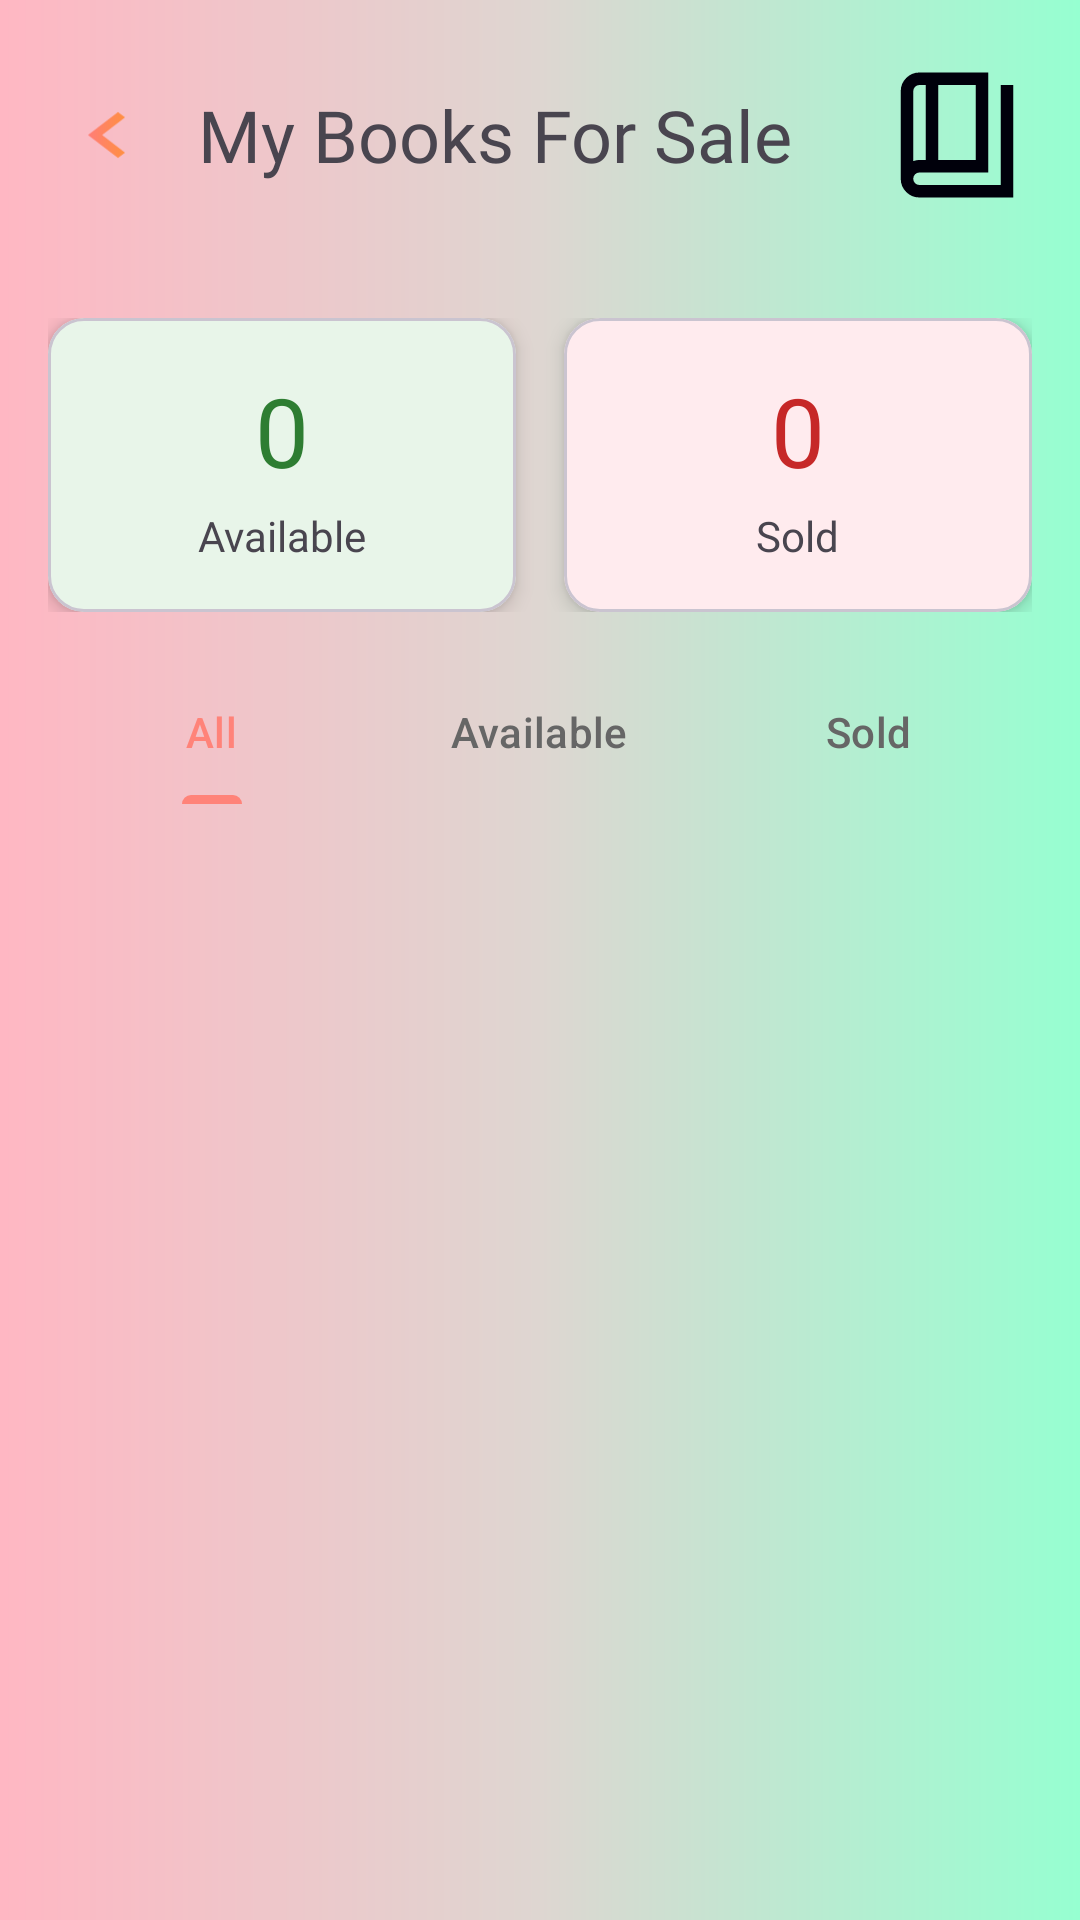

Icon click points for this 1080*1920 phone screenshot, format (x=x, y=y):
arrow left: (x=106, y=135)
